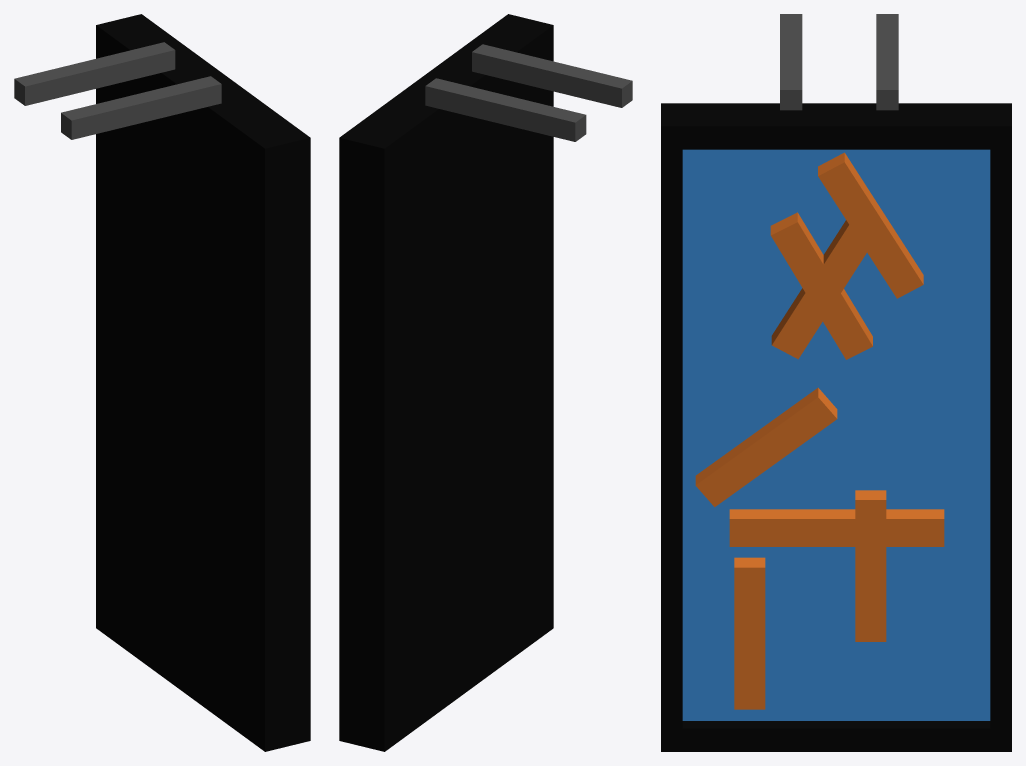
File: NeonBillboard1.fbx
3 views of the same model, side by side, from view 1: azimuth 30°, elevation 25°; view 2: azimuth 150°, elevation 25°; view 3: azimuth 270°, elevation 25° (orthographic). The views are drawn at different scales.
Parts seen in each view (by area): view 1: Cube.148, Cube.149, Cube.150; view 2: Cube.148, Cube.149, Cube.150; view 3: Cube.148, Cube.171, Cube.169, Cube.166, Cube.168, Cube.167, Cube.165, Cube.170, Cube.149, Cube.150.
Boxes of the visible parts, <box> form: Cube.148: <box>96,14,310,751</box>; Cube.149: <box>14,42,175,105</box>; Cube.150: <box>61,76,221,139</box>; Cube.148: <box>339,14,553,751</box>; Cube.149: <box>425,78,586,141</box>; Cube.150: <box>472,44,632,107</box>; Cube.148: <box>661,103,1011,751</box>; Cube.171: <box>729,509,944,546</box>; Cube.169: <box>695,387,837,507</box>; Cube.166: <box>770,212,872,359</box>; Cube.168: <box>818,152,923,298</box>; Cube.167: <box>771,220,876,359</box>; Cube.165: <box>734,557,765,709</box>; Cube.170: <box>855,490,886,641</box>; Cube.149: <box>876,14,898,110</box>; Cube.150: <box>780,14,802,110</box>.
Bounding box in the file's own units: 2.88 × 9.21 × 4.53.
